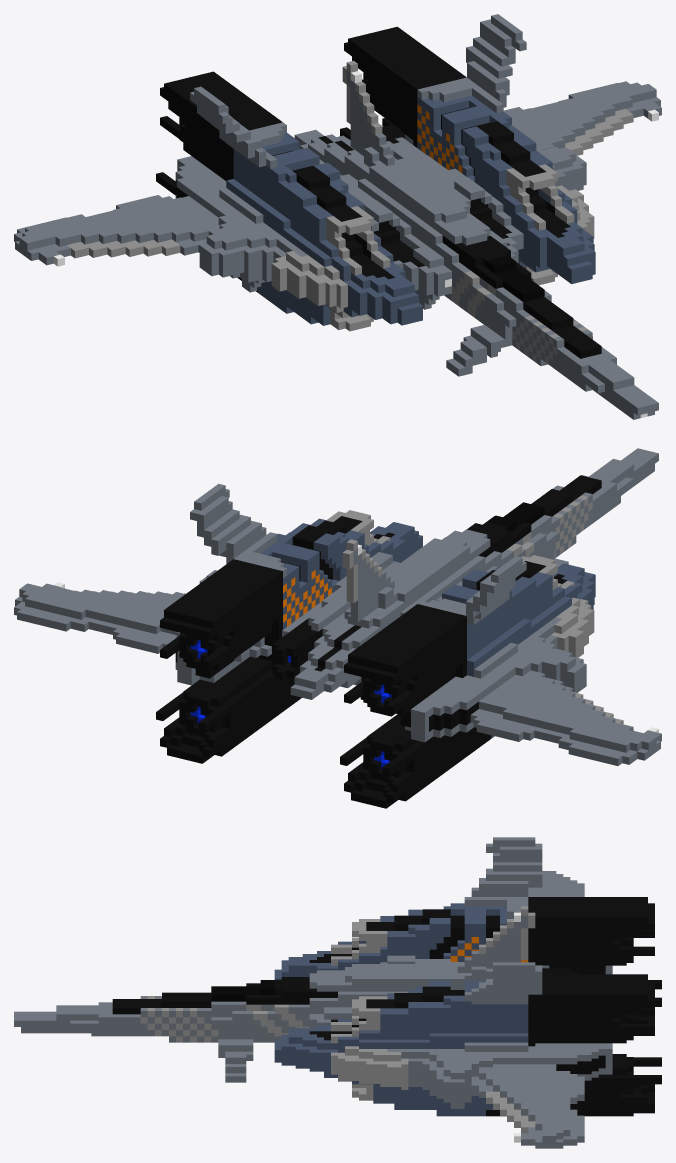
Rendered from Spaceship3.obj.
3 views of the same model, one above another, from view 1: azimuth 30°, elevation 25°; view 2: azimuth 150°, elevation 25°; view 3: azimuth 270°, elevation 25° (orthographic). The views are drawn at different scales.
Parts seen in each view (by area): view 1: Spaceship3_Spaceships.016; view 2: Spaceship3_Spaceships.016; view 3: Spaceship3_Spaceships.016.
Boxes of the visible parts, <box> form: Spaceship3_Spaceships.016: <box>14,14,661,419</box>; Spaceship3_Spaceships.016: <box>14,448,661,808</box>; Spaceship3_Spaceships.016: <box>14,837,661,1148</box>.
Bounding box in the file's own units: 8.9 × 2.6 × 9.2.
